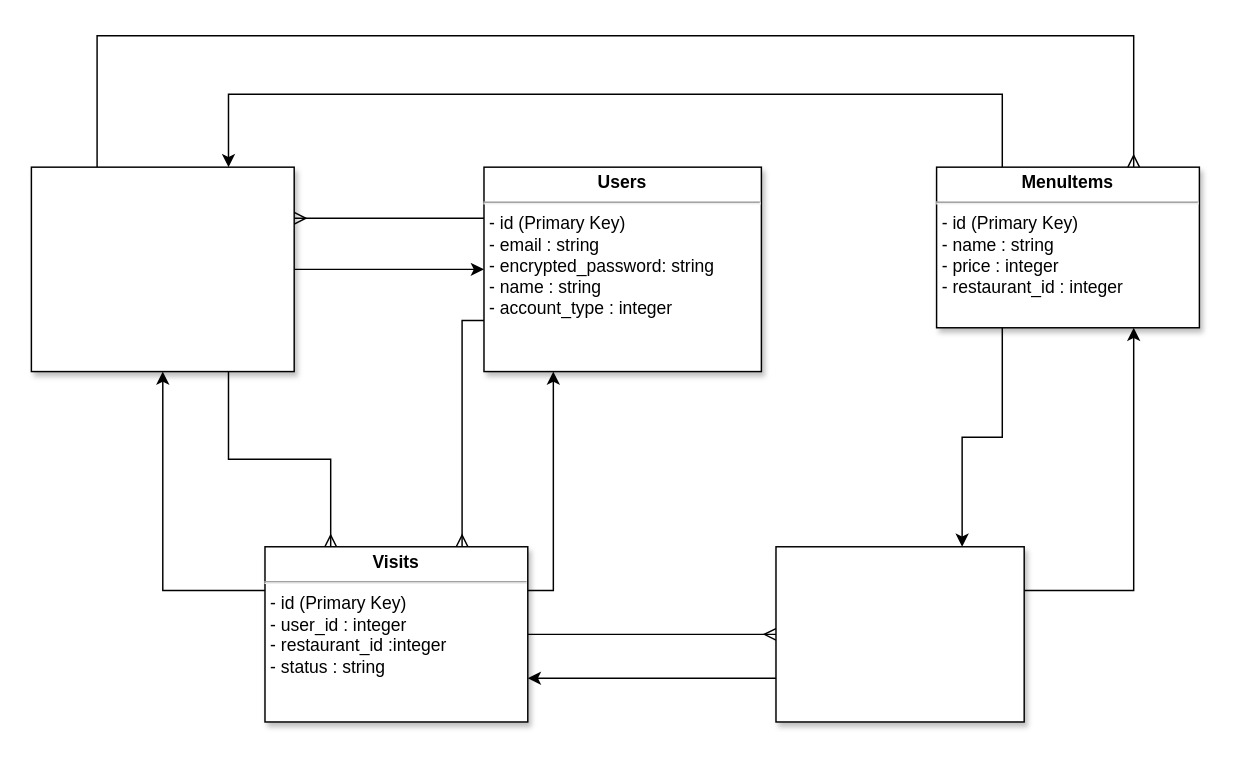
Some shapes in this 1234 by 758 pixel diagram are drawn without their labels. The centre of each missing label's shape, as x and y in pixels:
"Restaurants - id (Primary Key) - name : string - user_id : integer" belongs at (163,271).
"VisitMenuItems - id : integer - visit_id : integer - menu_item_id : integer" belongs at (901,635).
